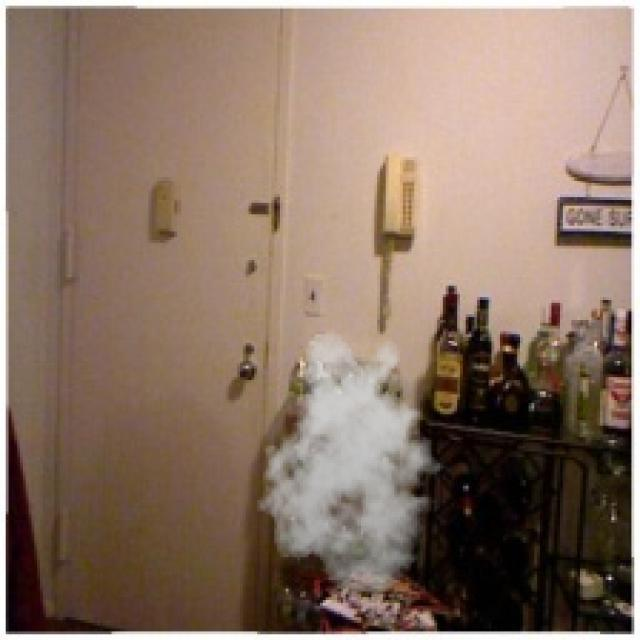Smoke: (252, 328, 454, 598)
